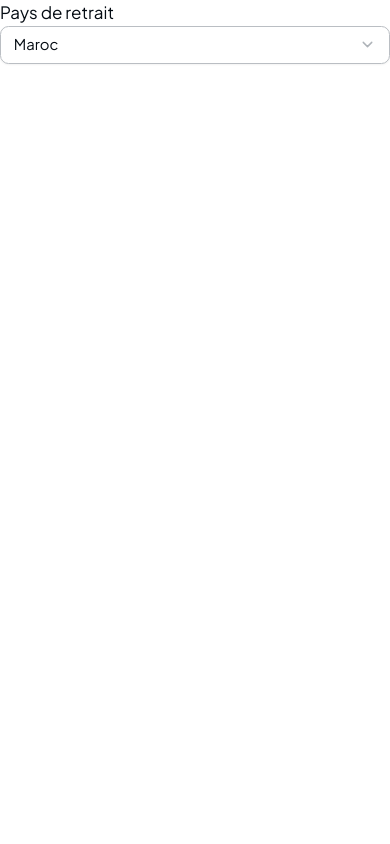
Test: CountrySelect › forgets the search once closed
Earlier steps of the test are not shown.
Click the dropdown named "Pays de retrait" at (36, 44), box left=0, top=26, right=389, bottom=64
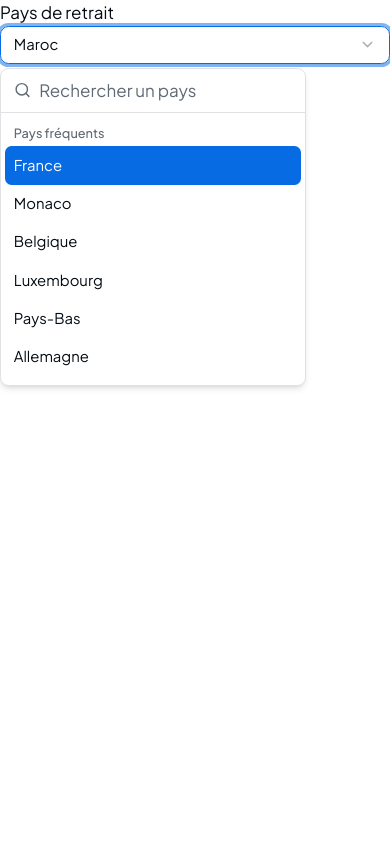
Expected: the field with placeholder "Rechercher un pays" is empty, left=1, top=69, right=305, bottom=112
